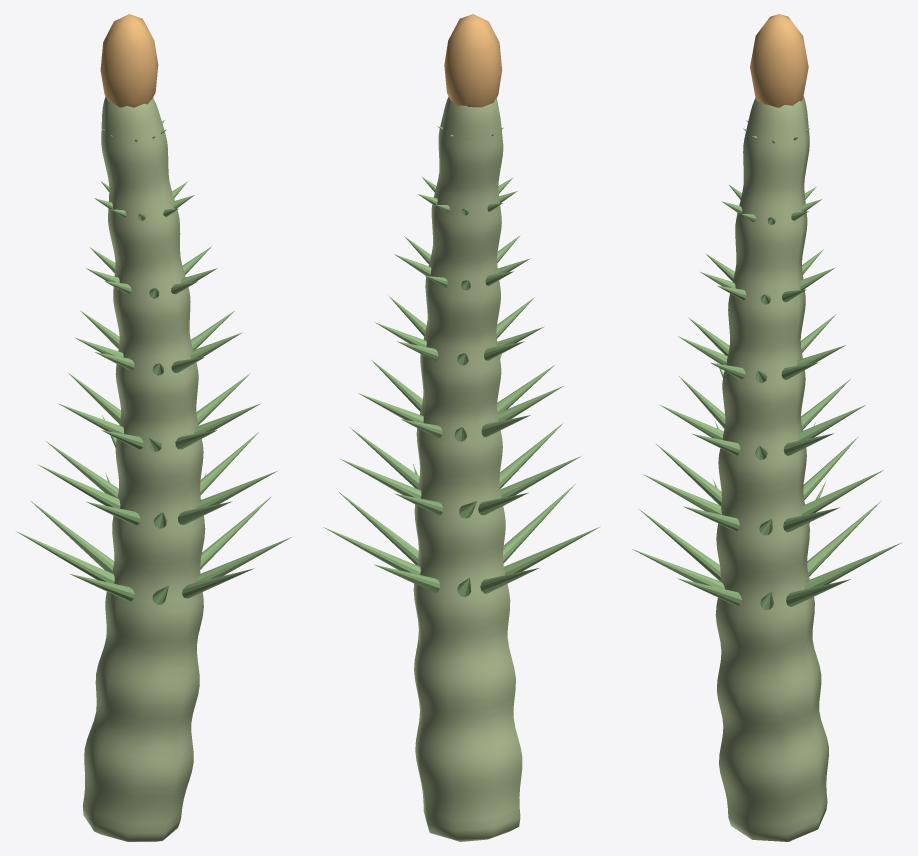
Rendered from tree.horsetail.glb.
3 views of the same model, side by side, from view 1: azimuth 30°, elevation 25°; view 2: azimuth 150°, elevation 25°; view 3: azimuth 270°, elevation 25° (orthographic).
Visible parts, largest first — view 1: Horsetail, Needle, Cone; view 2: Horsetail, Needle, Cone; view 3: Horsetail, Needle, Cone.
Boxes of the visible parts, bbox=[...] form: Horsetail: bbox=[82, 97, 205, 841]; Needle: bbox=[16, 120, 291, 604]; Cone: bbox=[100, 14, 158, 107]; Horsetail: bbox=[413, 96, 522, 841]; Needle: bbox=[323, 126, 600, 596]; Cone: bbox=[444, 14, 502, 107]; Horsetail: bbox=[715, 96, 828, 841]; Needle: bbox=[632, 120, 901, 609]; Cone: bbox=[750, 14, 808, 107].
Size of the model in its own units: 0.3212 by 1.07 by 0.3253.
